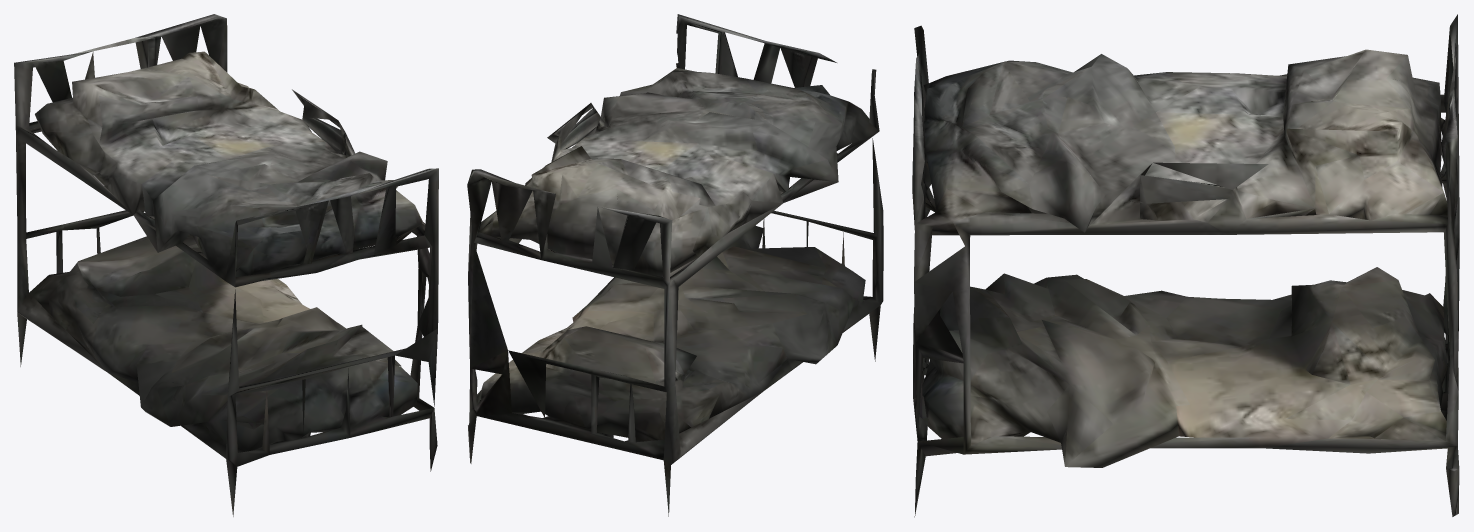
Rendered from e_bunk.glb.
3 renders of one model, left to right at view 1: azimuth 30°, elevation 25°; view 2: azimuth 150°, elevation 25°; view 3: azimuth 270°, elevation 25°, orthographic. The views are drawn at different scales.
Visible parts, largest first — view 1: tripo_node_f5c88d67-9bef-4a8b-a85b-2f58f0b9dd51; view 2: tripo_node_f5c88d67-9bef-4a8b-a85b-2f58f0b9dd51; view 3: tripo_node_f5c88d67-9bef-4a8b-a85b-2f58f0b9dd51.
Part boxes in pixels (<box>): tripo_node_f5c88d67-9bef-4a8b-a85b-2f58f0b9dd51: <box>14,14,438,516</box>; tripo_node_f5c88d67-9bef-4a8b-a85b-2f58f0b9dd51: <box>467,14,883,516</box>; tripo_node_f5c88d67-9bef-4a8b-a85b-2f58f0b9dd51: <box>912,14,1459,517</box>.
Size of the model in its own units: 0.6523 by 0.7756 by 1.
1 material, 1 textured.
